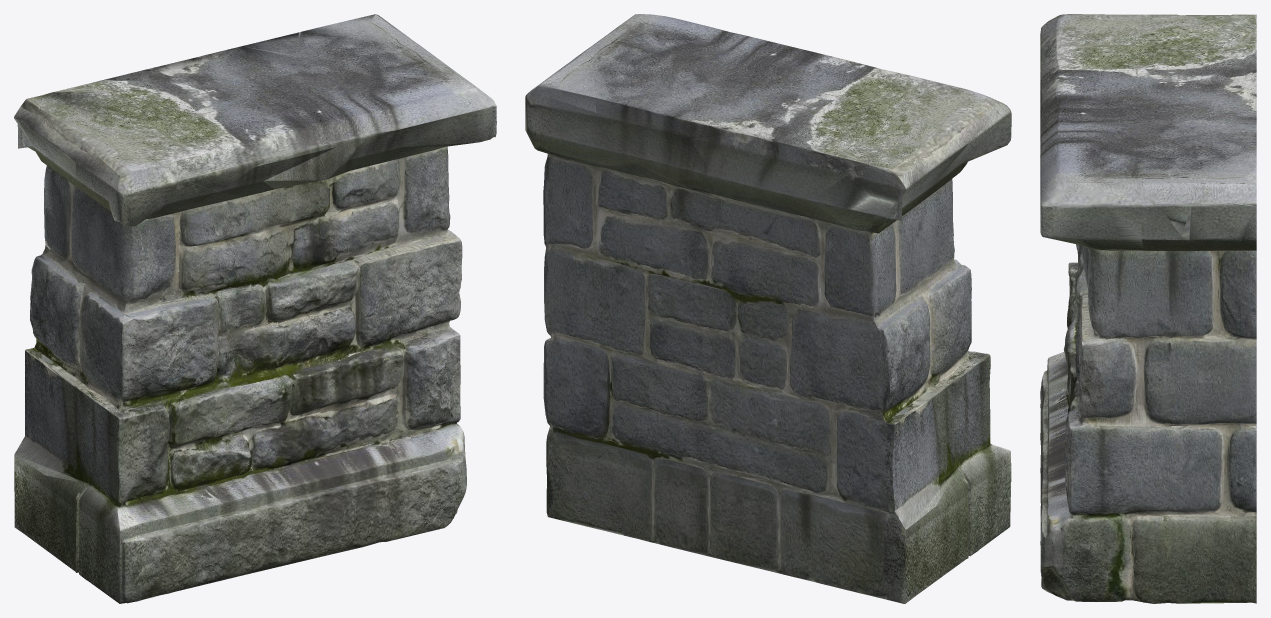
Rendered from buttress-stepped-stone.glb.
3 renders of one model, left to right at view 1: azimuth 30°, elevation 25°; view 2: azimuth 150°, elevation 25°; view 3: azimuth 270°, elevation 25°, orthographic.
Visible parts, largest first — view 1: buttress-stepped-stone; view 2: buttress-stepped-stone; view 3: buttress-stepped-stone.
Boxes of the visible parts, box(x1,y1,x2,y2) form: buttress-stepped-stone: box(14, 14, 496, 603); buttress-stepped-stone: box(525, 14, 1011, 603); buttress-stepped-stone: box(1040, 14, 1256, 603).
Size of the model in its own units: 2.4 by 2.6 by 1.2.
1 material, 1 textured.
